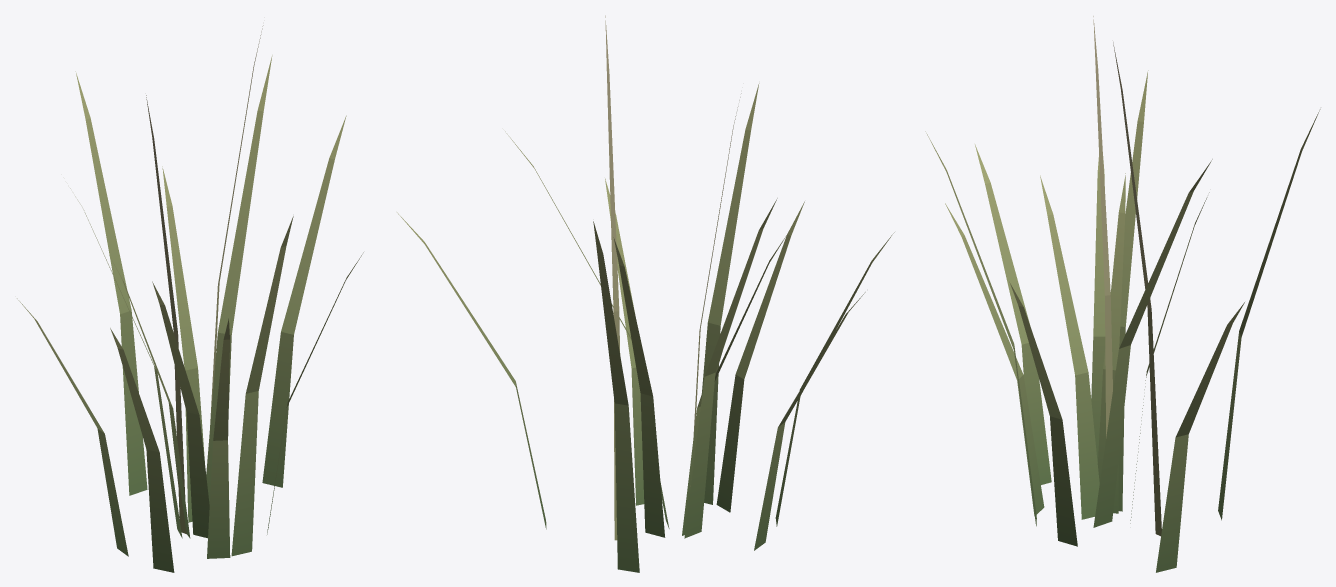
The model's file is veg-spartina.glb.
3 views of the same model, side by side, from view 1: azimuth 30°, elevation 25°; view 2: azimuth 150°, elevation 25°; view 3: azimuth 270°, elevation 25° (orthographic). The views are drawn at different scales.
Parts seen in each view (by area): view 1: LOD0; view 2: LOD0; view 3: LOD0.
Boxes of the visible parts, x1,y1,x2,y2 form: LOD0: (17,25,363,572); LOD0: (397,15,894,572); LOD0: (925,16,1320,572).
Size of what is drawn, in the model's own units: 1.19 by 1.41 by 0.9839.
